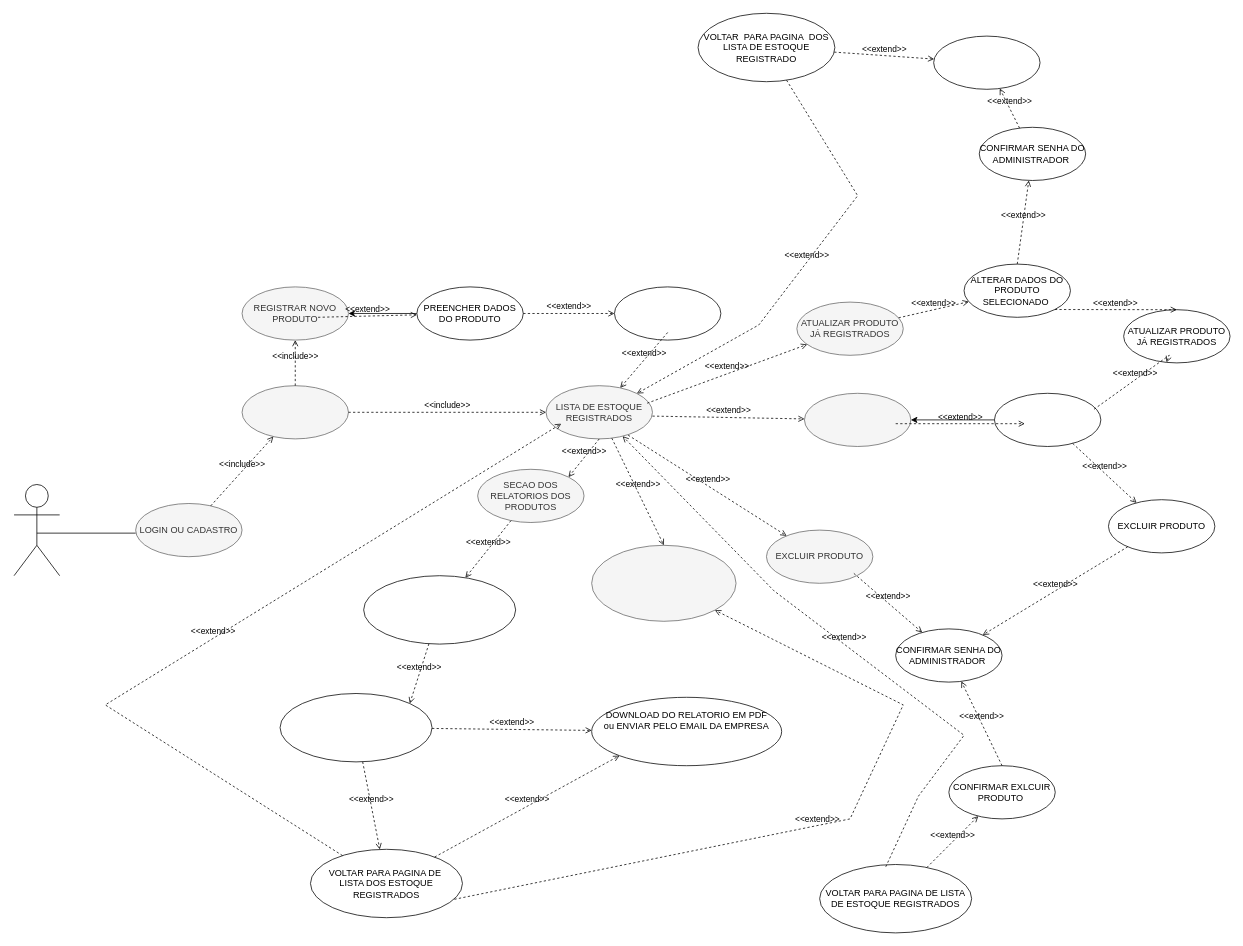
Image size: 1243x946. Some labels were removed from this diagram. Each missing label, with the box of its shape:
CONFIRMAR ALTERACAO: (933, 35, 1040, 89)
CONFIRMAR DADOS DOS PRODUTOS: (614, 286, 721, 340)
Funcionário: (13, 484, 60, 576)
LISTA DE PRODUTOS COM CATEGORIA SELECIONADA: (994, 393, 1101, 446)
MOSTRAR DADOS DO RELATORIO: (279, 693, 432, 762)
MOSTRAR HISTORICO DA ALTERACOES ETC LISTANDO NOME DO FUNCIONARIO: (591, 545, 736, 621)
SECAO DE CADA CATEGORIA DOS PRODUTOS: (804, 393, 911, 446)
SELECIONAR QUAL PERIODO DO MES PARA GERAR RELATORIO: (363, 575, 516, 644)
SISTEMA DE ESTOQUE: (241, 385, 348, 439)
